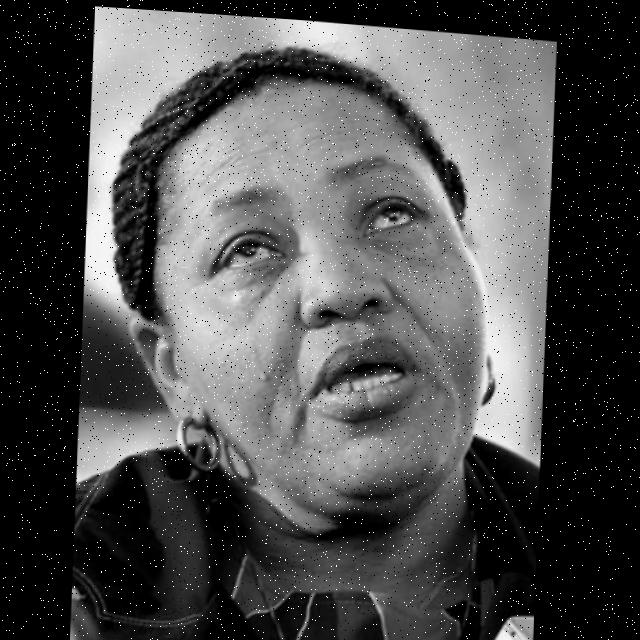face: (108, 44, 513, 545)
